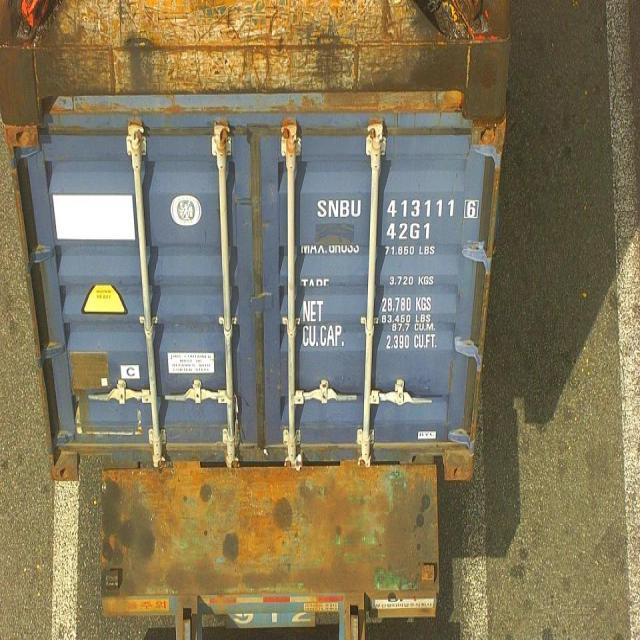ISO: (386, 223, 428, 240)
container_number: (324, 200, 478, 222)
